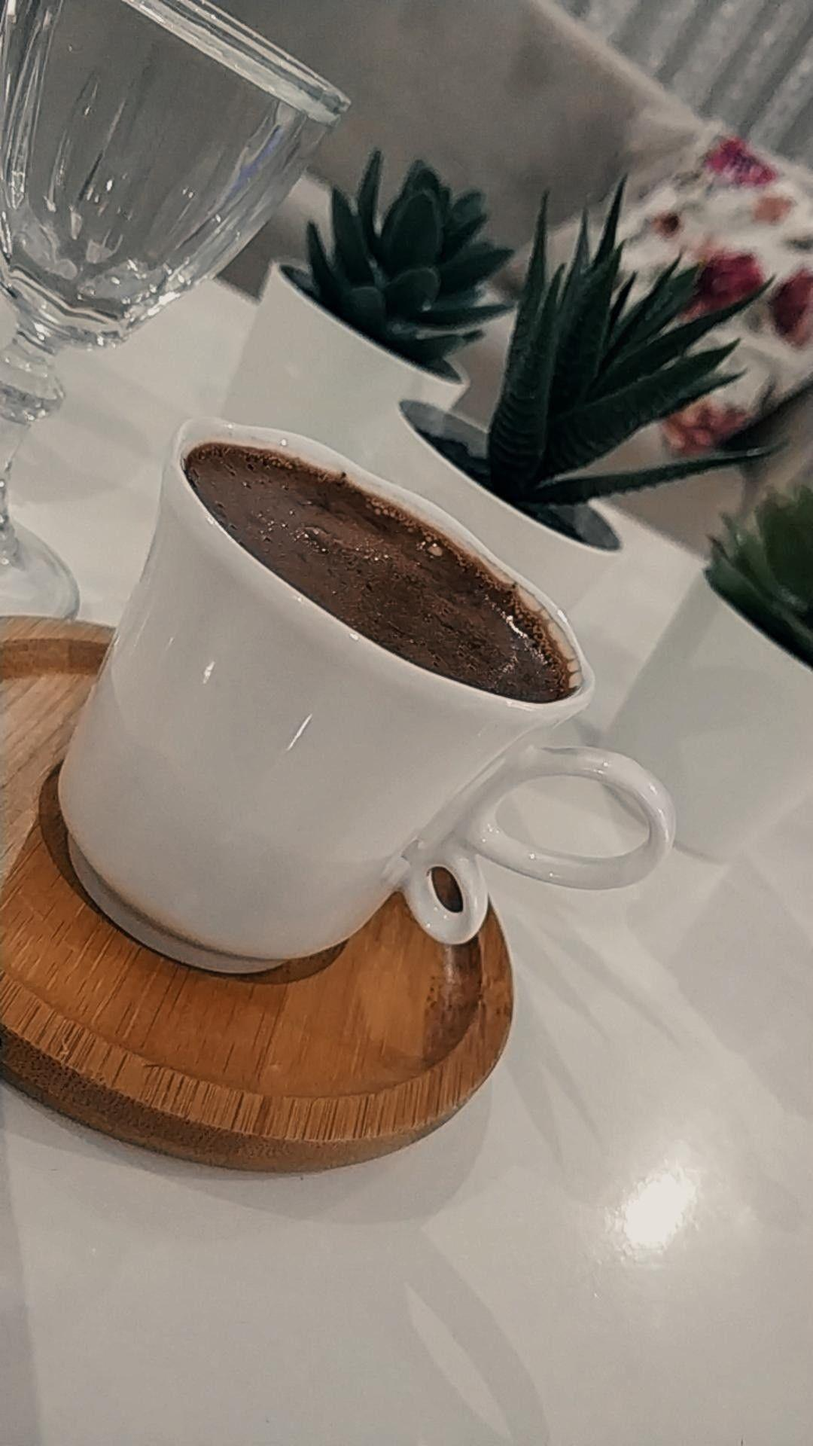cup-handle: (50, 416, 674, 977)
glass-wine: (0, 1, 352, 629)
